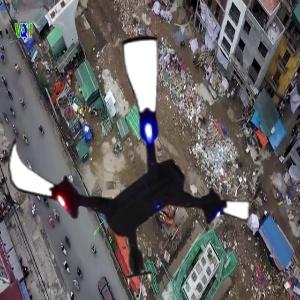drone: (3, 30, 267, 294)
